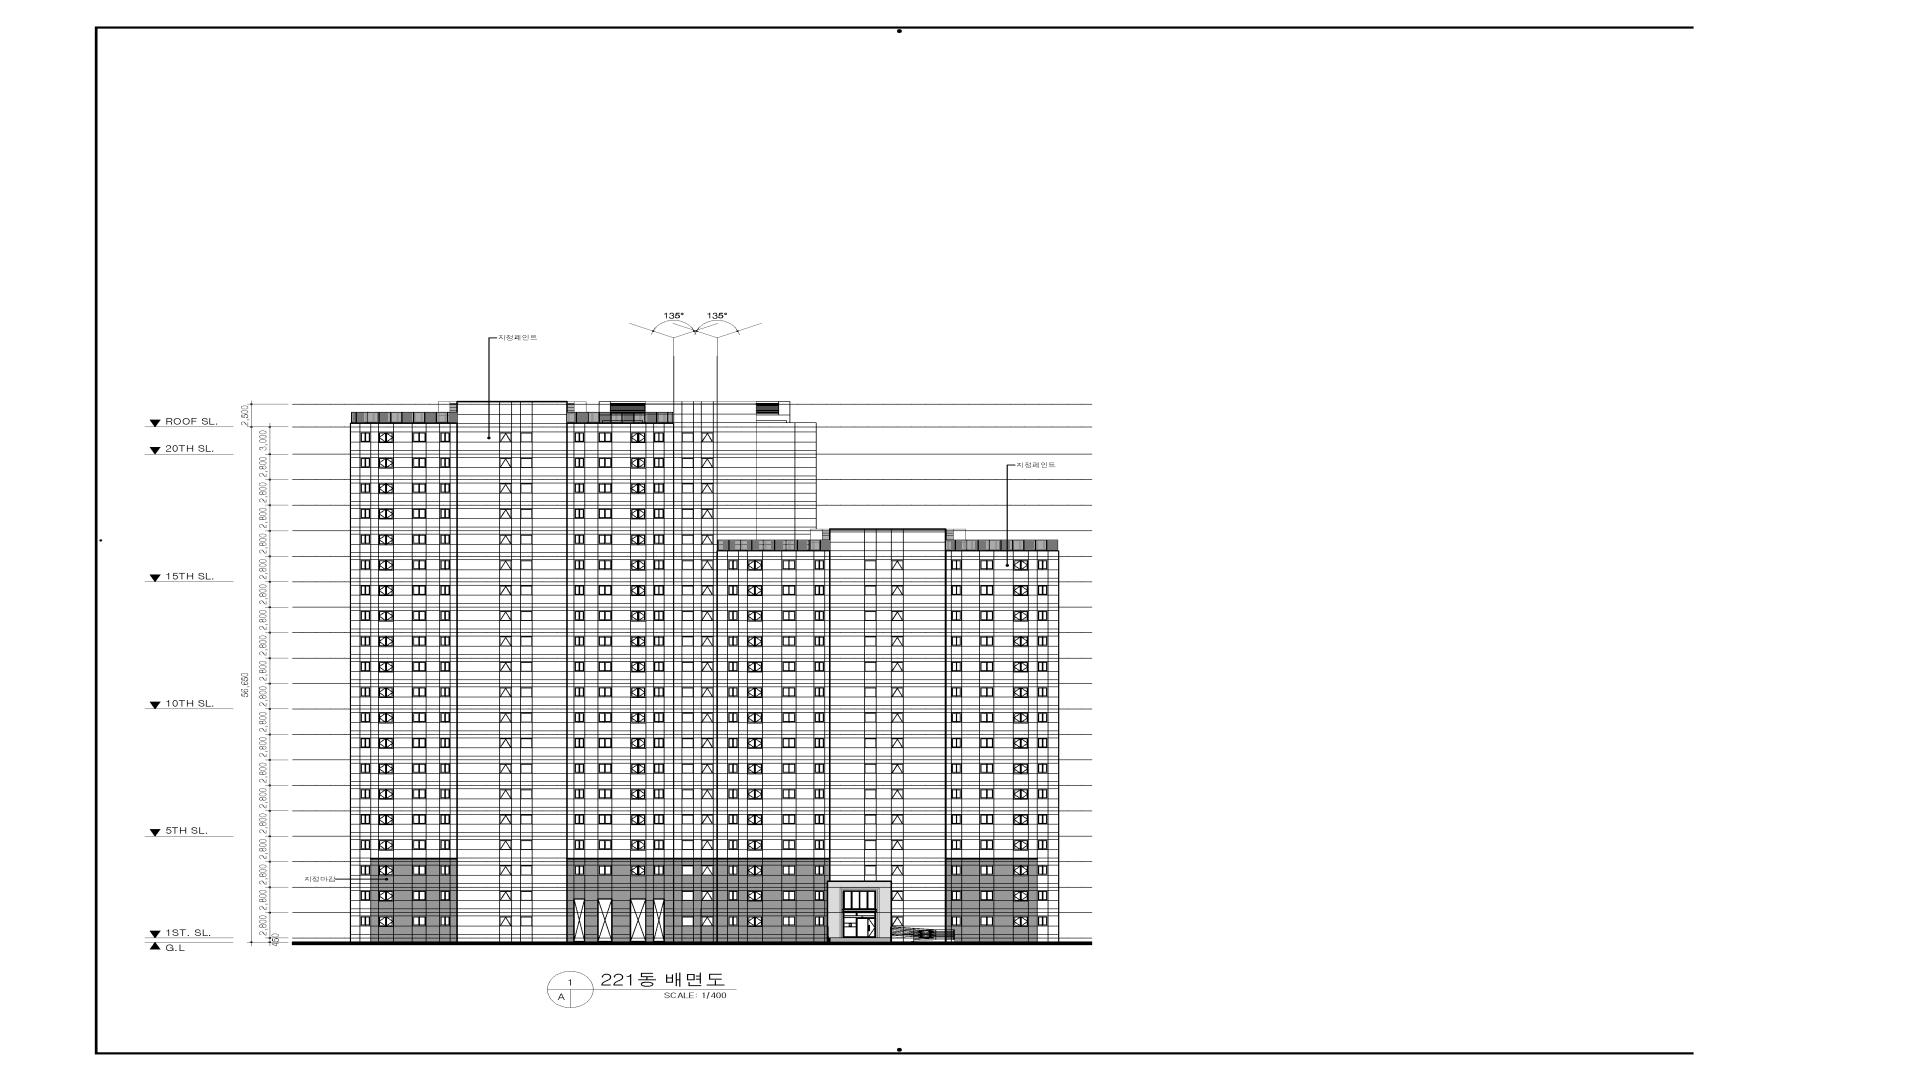door: (597, 898, 613, 942), (630, 898, 646, 942), (574, 898, 585, 942), (653, 898, 665, 942), (856, 918, 868, 939), (868, 918, 876, 939)
wall: (349, 401, 1059, 942)
window: (843, 890, 876, 911), (611, 401, 646, 411), (756, 401, 779, 415), (843, 918, 856, 939), (843, 911, 876, 918), (746, 636, 764, 647), (746, 712, 764, 724), (746, 915, 764, 927), (1013, 559, 1029, 571), (746, 559, 762, 571), (630, 431, 646, 443), (378, 431, 394, 443), (1013, 636, 1029, 647), (1013, 661, 1029, 673), (1013, 712, 1029, 724), (1013, 737, 1029, 749), (1013, 789, 1029, 800), (1013, 814, 1029, 825), (1013, 839, 1029, 851), (1013, 890, 1029, 902), (1013, 915, 1029, 927), (746, 661, 762, 673), (746, 737, 762, 749), (746, 789, 762, 800), (746, 814, 762, 825), (746, 839, 762, 851), (746, 890, 762, 902), (630, 483, 646, 495), (630, 508, 646, 520), (630, 559, 646, 571), (630, 636, 646, 647), (630, 661, 646, 673), (630, 712, 646, 724), (630, 737, 646, 749), (630, 789, 646, 800), (630, 814, 646, 825), (630, 839, 646, 851), (411, 839, 427, 851), (378, 483, 394, 495), (378, 508, 394, 520), (378, 559, 394, 571), (378, 636, 394, 647), (378, 712, 394, 724), (378, 737, 394, 749), (378, 789, 394, 800), (378, 814, 394, 825), (378, 839, 394, 851), (378, 865, 394, 877), (378, 890, 394, 902), (378, 915, 394, 927), (746, 687, 764, 698), (746, 764, 764, 774), (746, 865, 764, 876), (411, 431, 426, 443), (980, 839, 994, 851), (980, 915, 994, 927), (782, 839, 796, 851), (782, 915, 796, 927), (597, 762, 612, 774), (597, 839, 612, 851), (411, 915, 426, 927), (1013, 585, 1029, 596), (1013, 611, 1029, 621), (1013, 687, 1029, 698), (1013, 764, 1029, 774), (1013, 865, 1029, 876), (978, 585, 994, 596), (746, 585, 762, 596), (746, 611, 762, 621), (630, 458, 646, 468), (630, 534, 646, 545), (630, 585, 646, 596), (630, 611, 646, 621), (630, 687, 646, 698), (630, 764, 646, 774), (630, 865, 646, 876), (378, 458, 394, 468), (378, 534, 394, 545), (378, 585, 394, 596), (378, 611, 394, 621), (378, 662, 394, 673), (378, 687, 394, 698), (378, 764, 394, 774), (520, 431, 533, 443), (864, 839, 877, 851), (700, 839, 713, 851), (700, 915, 713, 927), (520, 839, 533, 851), (520, 915, 533, 927), (980, 559, 994, 570), (782, 559, 796, 570), (597, 431, 612, 442), (980, 611, 994, 621), (980, 636, 994, 646), (980, 662, 994, 673), (980, 687, 994, 698), (980, 712, 994, 723), (980, 737, 994, 748), (980, 764, 994, 774), (980, 789, 994, 799), (980, 814, 994, 824), (980, 865, 994, 876), (980, 890, 994, 901), (782, 611, 796, 621), (782, 636, 796, 646), (782, 687, 796, 698), (782, 712, 796, 723), (782, 737, 796, 748), (782, 764, 796, 774), (782, 789, 796, 799), (782, 814, 796, 824), (782, 865, 796, 876), (782, 890, 796, 901), (597, 458, 612, 468), (597, 483, 612, 493), (597, 508, 612, 518), (597, 534, 612, 545), (597, 559, 612, 570), (597, 585, 612, 596), (597, 611, 612, 621), (597, 636, 612, 646), (597, 661, 612, 671), (597, 687, 612, 698), (597, 712, 612, 723), (597, 737, 612, 748), (597, 789, 612, 799), (597, 814, 612, 824), (597, 865, 612, 876), (411, 890, 426, 901), (411, 865, 426, 876), (411, 814, 426, 824), (411, 789, 426, 799), (411, 764, 426, 774), (411, 737, 426, 748), (411, 712, 426, 723), (411, 687, 426, 698), (411, 636, 426, 646), (411, 611, 426, 621), (411, 585, 426, 596), (411, 559, 426, 570), (411, 534, 426, 545), (411, 508, 426, 518), (411, 483, 426, 493), (411, 458, 426, 468), (653, 431, 665, 443), (439, 431, 451, 443), (1036, 839, 1048, 851), (951, 839, 963, 851), (891, 839, 903, 851), (814, 839, 825, 851), (814, 915, 825, 927), (727, 839, 738, 851), (727, 915, 738, 927), (682, 839, 694, 851), (682, 915, 694, 927), (653, 839, 665, 851), (574, 839, 585, 851), (500, 839, 512, 851), (439, 839, 451, 851), (439, 915, 451, 927), (864, 559, 877, 570), (700, 431, 713, 442), (864, 585, 877, 596), (864, 611, 877, 621), (864, 636, 877, 646), (864, 661, 877, 671), (864, 687, 877, 698), (864, 712, 877, 723), (864, 737, 877, 748), (864, 764, 877, 774), (864, 789, 877, 799), (864, 814, 877, 824), (864, 865, 877, 876), (700, 458, 713, 468), (700, 483, 713, 493), (700, 508, 713, 518), (700, 534, 713, 545), (700, 559, 713, 570), (700, 764, 713, 774), (700, 789, 713, 799), (520, 458, 533, 468), (520, 483, 533, 493), (520, 508, 533, 518), (520, 559, 533, 570), (520, 585, 533, 596), (520, 636, 533, 646), (520, 661, 533, 671), (520, 687, 533, 698), (520, 737, 533, 748), (520, 764, 533, 774), (520, 789, 533, 799), (520, 814, 533, 824), (520, 865, 533, 876), (520, 890, 533, 901), (782, 585, 796, 595), (782, 662, 796, 671), (411, 662, 426, 671), (951, 559, 963, 570), (1036, 559, 1048, 570), (891, 559, 903, 570), (814, 559, 825, 570), (574, 431, 585, 442), (682, 431, 694, 442), (500, 431, 512, 442), (360, 431, 371, 443), (1036, 585, 1048, 596), (1036, 611, 1048, 621), (1036, 636, 1048, 646), (1036, 661, 1048, 671), (1036, 687, 1048, 698), (1036, 712, 1048, 723), (1036, 737, 1048, 748), (1036, 764, 1048, 774), (1036, 789, 1048, 799), (1036, 814, 1048, 824), (1036, 865, 1048, 876), (1036, 890, 1048, 901), (1036, 915, 1048, 926), (951, 585, 963, 596), (951, 611, 963, 621), (951, 636, 963, 646), (951, 661, 963, 671), (951, 687, 963, 698), (951, 712, 963, 723), (951, 737, 963, 748), (951, 764, 963, 774), (951, 789, 963, 799), (951, 814, 963, 824), (951, 865, 963, 876), (951, 890, 963, 901), (951, 915, 963, 926), (891, 611, 903, 621), (891, 636, 903, 646), (891, 687, 903, 698), (891, 712, 903, 723), (891, 737, 903, 748), (891, 764, 903, 774), (891, 789, 903, 799), (891, 814, 903, 824), (891, 865, 903, 876), (891, 890, 903, 901), (891, 915, 903, 926), (814, 585, 825, 596), (814, 611, 825, 621), (814, 636, 825, 646), (814, 687, 825, 698), (814, 712, 825, 723), (814, 737, 825, 748), (814, 764, 825, 774), (814, 789, 825, 799), (814, 814, 825, 824), (814, 865, 825, 876), (814, 890, 825, 901), (727, 585, 738, 596), (727, 611, 738, 621), (727, 712, 738, 723), (727, 737, 738, 748), (727, 764, 738, 774), (727, 789, 738, 799), (727, 814, 738, 824), (727, 865, 738, 876), (727, 890, 738, 901), (682, 458, 694, 468), (682, 483, 694, 493), (682, 508, 694, 518), (682, 534, 694, 545), (682, 559, 694, 570), (682, 585, 694, 596), (682, 611, 694, 621), (702, 611, 713, 621), (682, 636, 694, 646), (702, 636, 713, 646), (682, 687, 694, 698), (702, 687, 713, 698), (682, 712, 694, 723), (702, 712, 713, 723), (682, 737, 694, 748), (702, 737, 713, 748), (682, 764, 694, 774), (682, 789, 694, 799), (682, 814, 694, 824), (702, 814, 713, 824), (682, 865, 694, 876), (702, 865, 713, 876), (682, 890, 694, 901), (702, 890, 713, 901), (653, 458, 665, 468), (653, 483, 665, 493), (653, 508, 665, 518), (653, 534, 665, 545), (653, 559, 665, 570), (653, 585, 665, 596), (653, 611, 665, 621), (653, 636, 665, 646), (653, 661, 665, 671), (653, 687, 665, 698), (653, 712, 665, 723), (653, 737, 665, 748), (653, 764, 665, 774), (653, 789, 665, 799), (653, 814, 665, 824), (653, 865, 665, 876), (574, 458, 585, 468), (574, 483, 585, 493), (574, 508, 585, 518), (574, 534, 585, 545), (574, 559, 585, 570), (574, 585, 585, 596), (574, 611, 585, 621), (574, 636, 585, 646), (574, 687, 585, 698), (574, 712, 585, 723), (574, 737, 585, 748), (574, 764, 585, 774), (574, 789, 585, 799), (574, 814, 585, 824), (574, 865, 585, 876), (500, 458, 512, 468), (500, 483, 512, 493), (500, 508, 512, 518), (500, 534, 512, 545), (521, 534, 533, 545), (500, 559, 512, 570), (500, 585, 512, 596), (500, 611, 512, 621), (521, 611, 533, 621), (500, 636, 512, 646), (500, 687, 512, 698), (500, 712, 512, 723), (521, 712, 533, 723), (500, 737, 512, 748), (500, 764, 512, 774), (500, 789, 512, 799), (500, 814, 512, 824), (500, 865, 512, 876), (500, 890, 512, 901), (500, 915, 512, 926), (439, 458, 451, 468), (439, 483, 451, 493), (439, 508, 451, 518), (439, 534, 451, 545), (439, 559, 451, 570), (439, 585, 451, 596), (439, 611, 451, 621), (439, 636, 451, 646), (439, 661, 451, 671), (439, 687, 451, 698), (439, 712, 451, 723), (439, 737, 451, 748), (439, 764, 451, 774), (439, 789, 451, 799), (439, 814, 451, 824), (439, 865, 451, 876), (439, 890, 451, 901), (360, 636, 372, 646), (360, 839, 371, 851), (360, 890, 372, 901), (728, 559, 738, 570), (728, 636, 738, 646), (728, 687, 738, 698), (360, 458, 371, 468), (360, 483, 371, 493), (360, 508, 371, 518), (360, 534, 371, 545), (360, 559, 371, 570), (360, 585, 371, 596), (360, 611, 371, 621), (360, 661, 371, 671), (360, 687, 371, 698), (360, 712, 371, 723), (360, 737, 371, 748), (360, 764, 371, 774), (360, 789, 371, 799), (360, 814, 371, 824), (360, 865, 371, 876), (360, 915, 371, 926), (891, 585, 903, 595), (891, 662, 903, 671), (814, 662, 825, 671), (702, 585, 713, 595), (682, 662, 694, 671), (702, 662, 713, 671), (574, 662, 585, 671), (500, 662, 512, 671), (728, 662, 738, 671), (822, 529, 829, 539), (450, 401, 456, 413), (568, 401, 575, 413), (947, 529, 953, 539)
